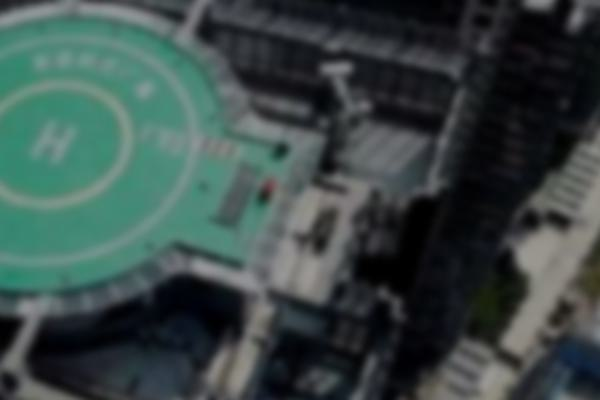Apron: (1, 80, 131, 209)
